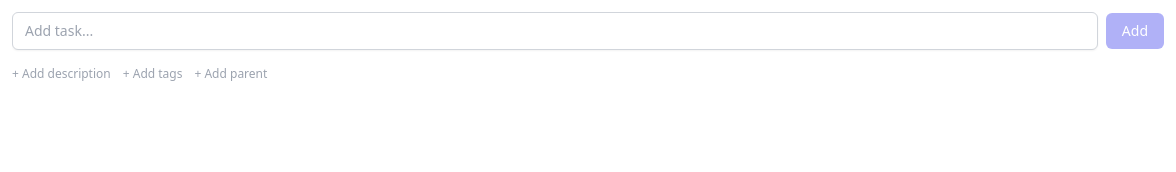
CreateTodoForm › Parent Toggle › should hide ParentPicker and clear parentId when "Remove parent" is clicked
Click the button "+ Add parent".
click(231, 74)  # box [194,62,267,86]
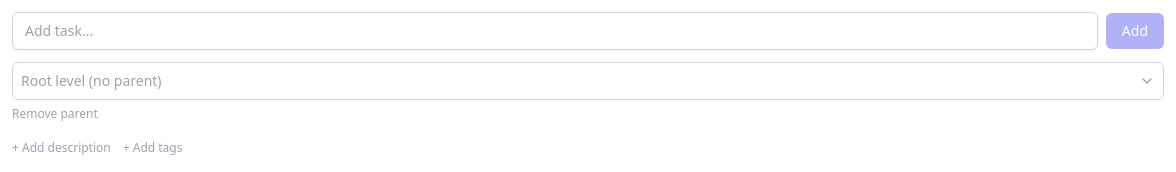
Click the button "Remove parent".
click(55, 114)  # box [12,106,98,122]
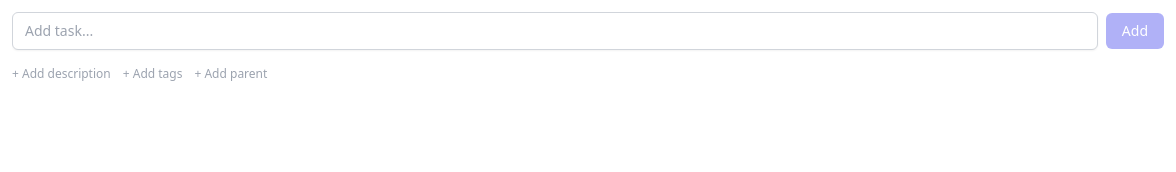
Expected: the button "+ Add parent" is shown, [194,62,267,86]
